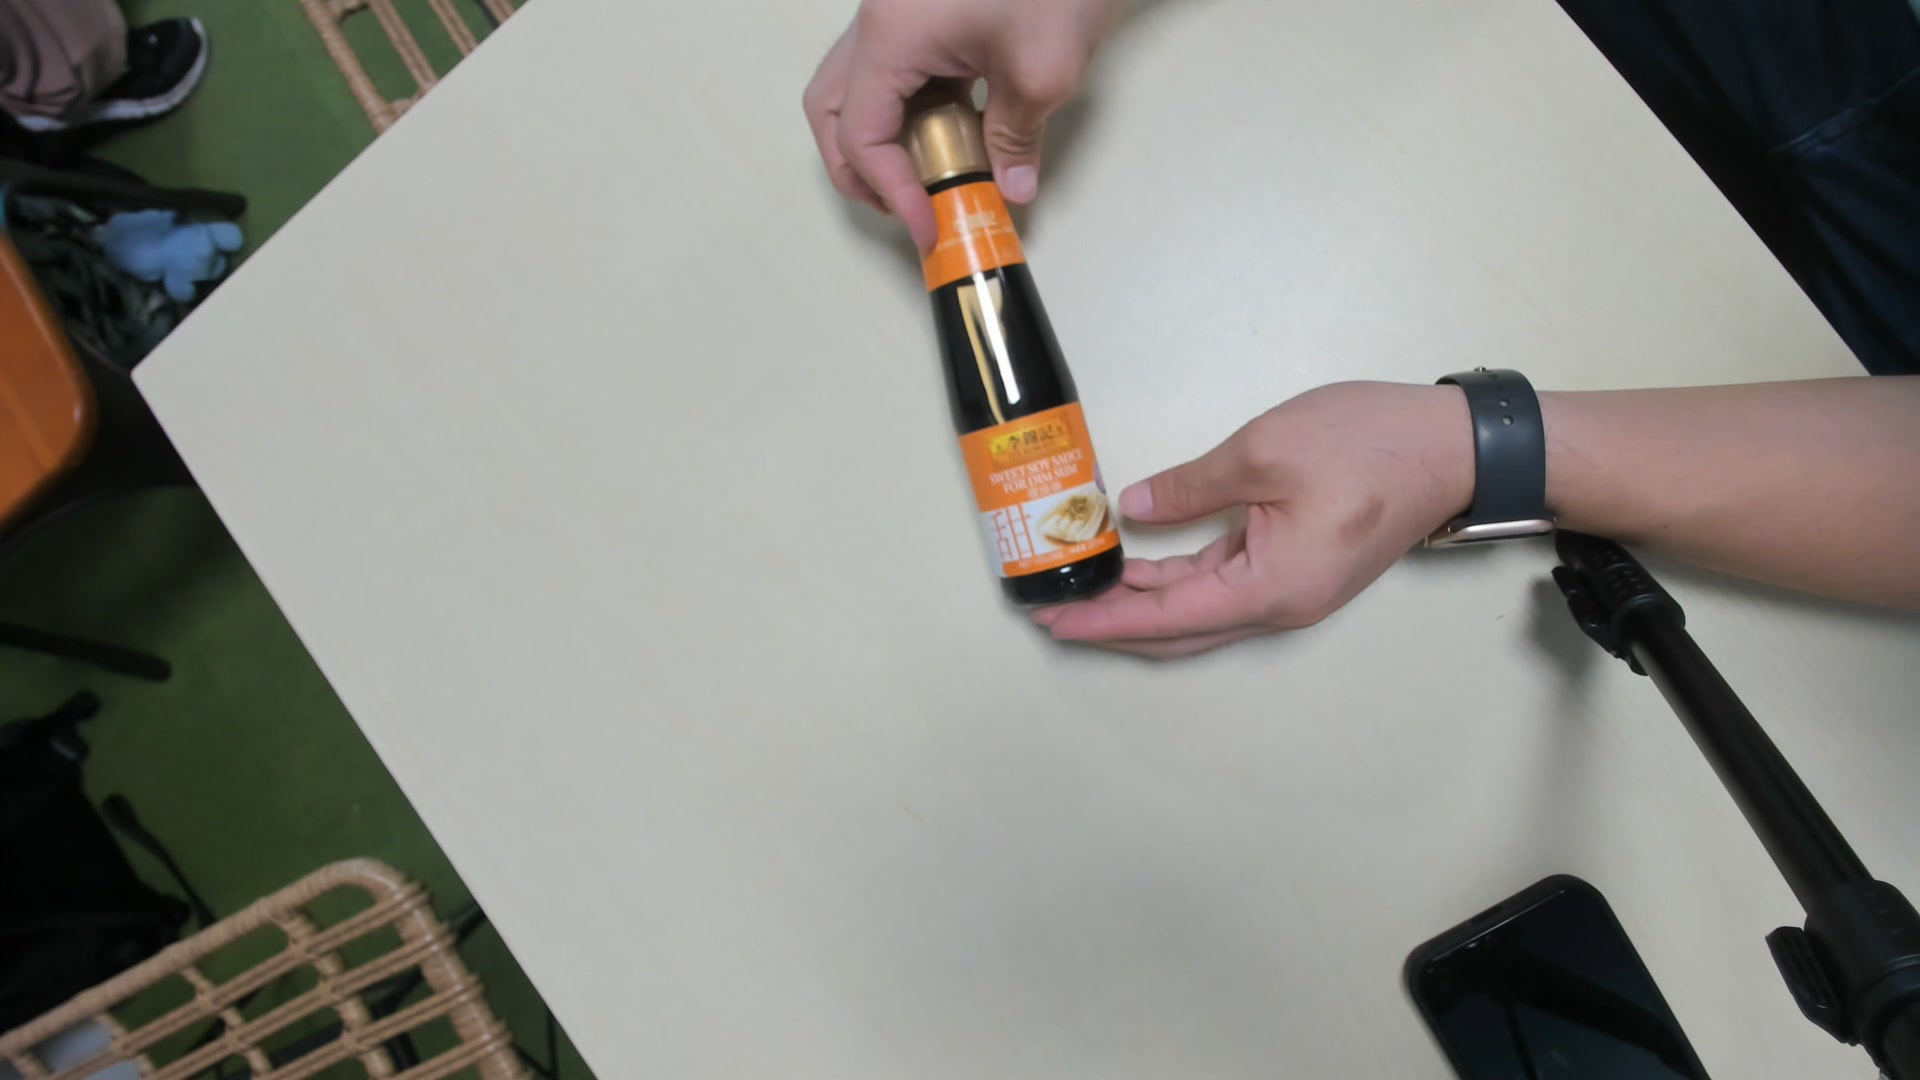OtherSauceDressing_200-299g_NonHalal_NonHealthy: (909, 80, 1122, 607)
